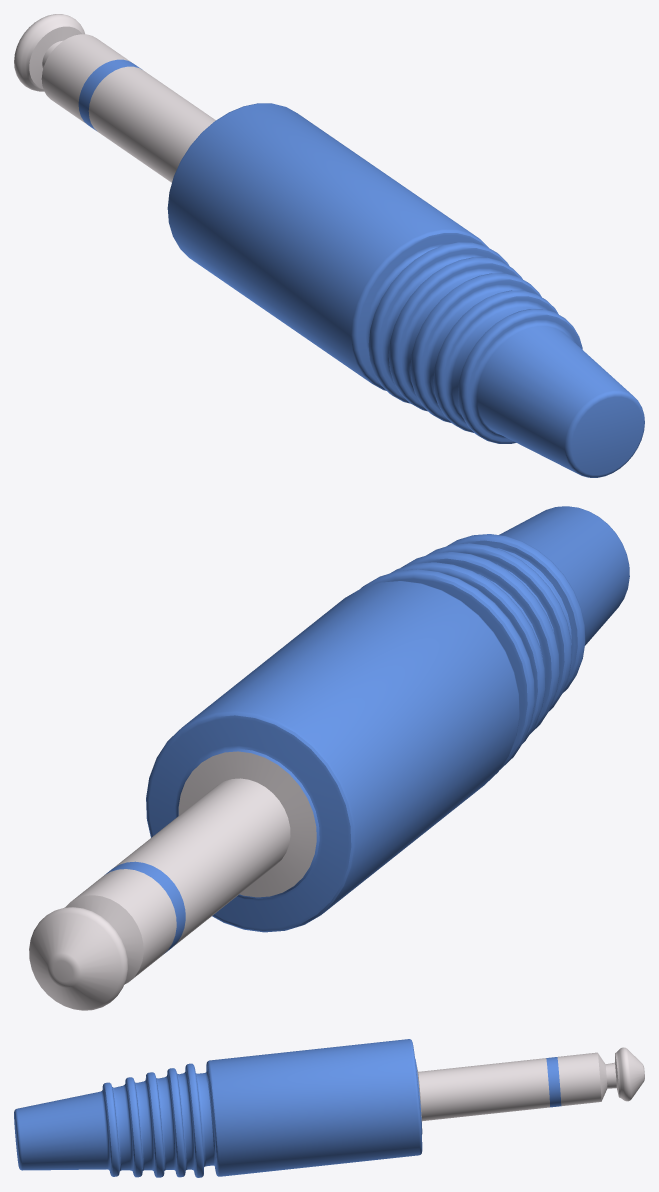
File: measuring_tip.fbx
The picture shows the model from 3 angles, top to bottom: view 1: azimuth 30°, elevation 25°; view 2: azimuth 150°, elevation 25°; view 3: azimuth 270°, elevation 25°; orthographic projection. The views are drawn at different scales.
Parts seen in each view (by area): view 1: JACK; view 2: JACK; view 3: JACK.
Boxes of the visible parts, <box> form: JACK: <box>14,14,644,477</box>; JACK: <box>29,506,629,1010</box>; JACK: <box>14,1039,644,1177</box>.
Bounding box in the file's own units: 0.5354 × 0.505 × 2.44.
